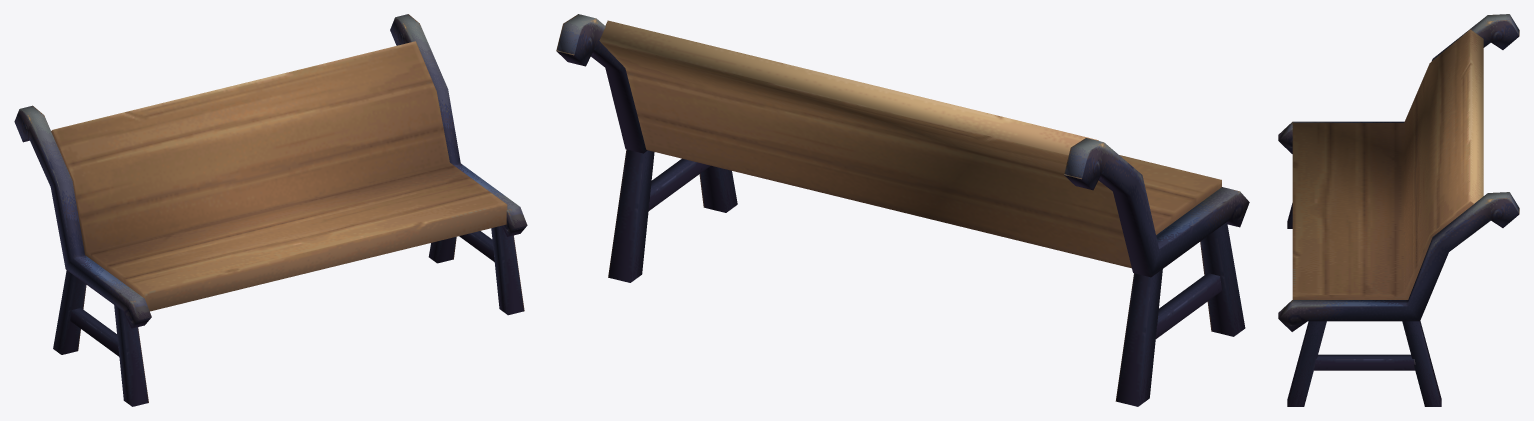
File: hbxz_wj029_01.FBX
3 views of the same model, side by side, from view 1: azimuth 30°, elevation 25°; view 2: azimuth 150°, elevation 25°; view 3: azimuth 270°, elevation 25° (orthographic). The views are drawn at different scales.
Parts seen in each view (by area): view 1: hbxz_wj029_01; view 2: hbxz_wj029_01; view 3: hbxz_wj029_01.
Boxes of the visible parts, x1=… form: hbxz_wj029_01: x1=14, y1=14, x2=527, y2=406; hbxz_wj029_01: x1=556, y1=14, x2=1249, y2=406; hbxz_wj029_01: x1=1278, y1=14, x2=1519, y2=406.
Size of the model in its own units: 136 by 70.64 by 74.28.
Materials: 1 (1 with a texture image).
